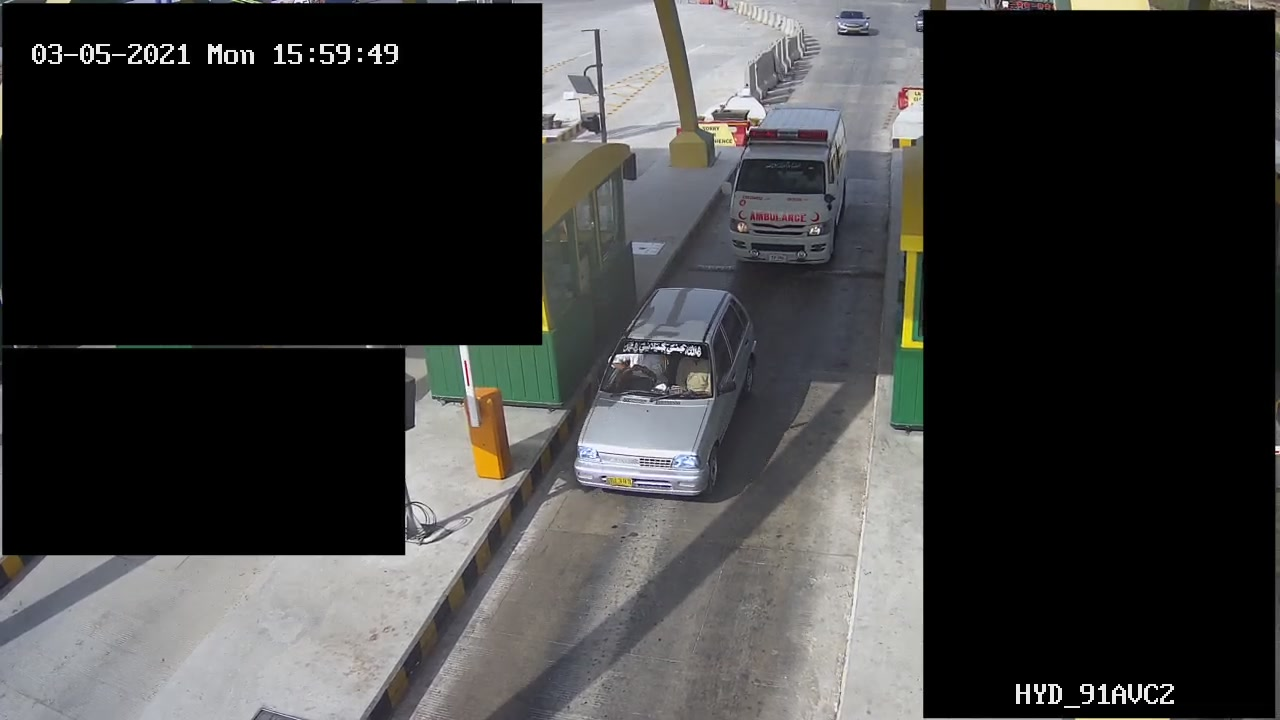F2: (724, 105, 856, 273)
